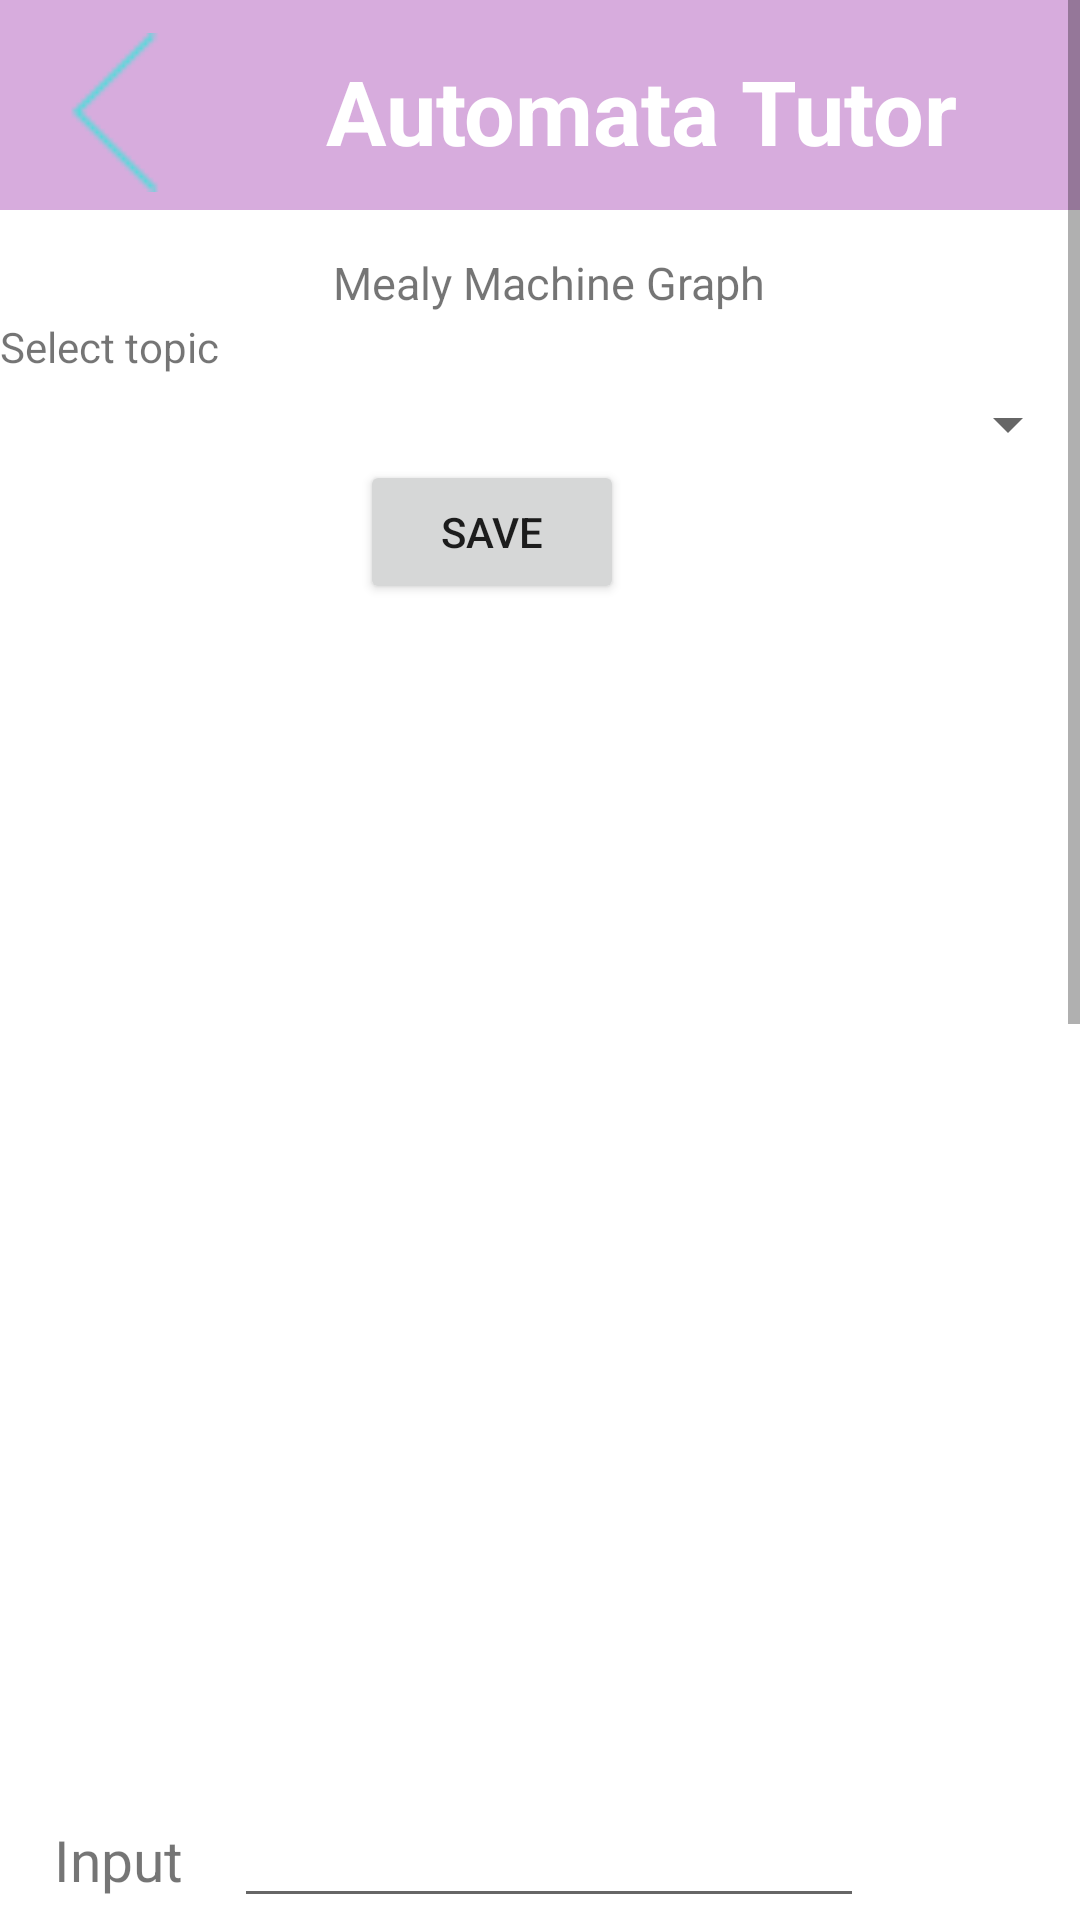

Where to tap for icons on this 1080px×1920px app screen, as [x,y]:
backiconimg: [115,112]
